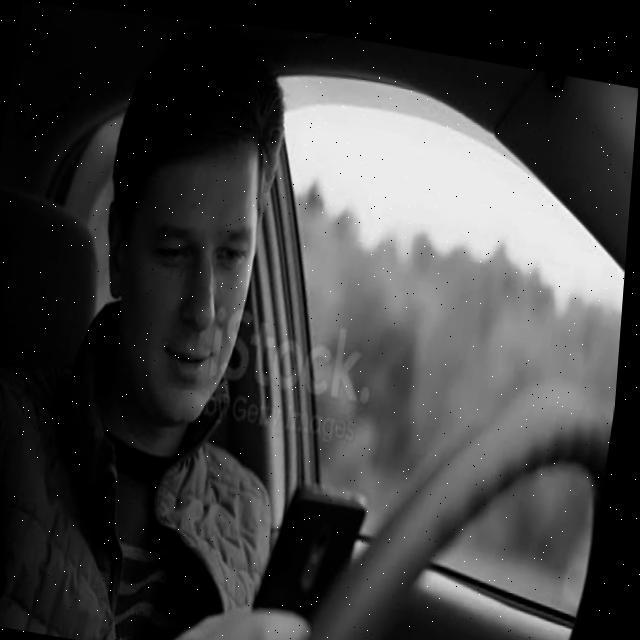PhoneCall: (257, 462, 376, 640)
